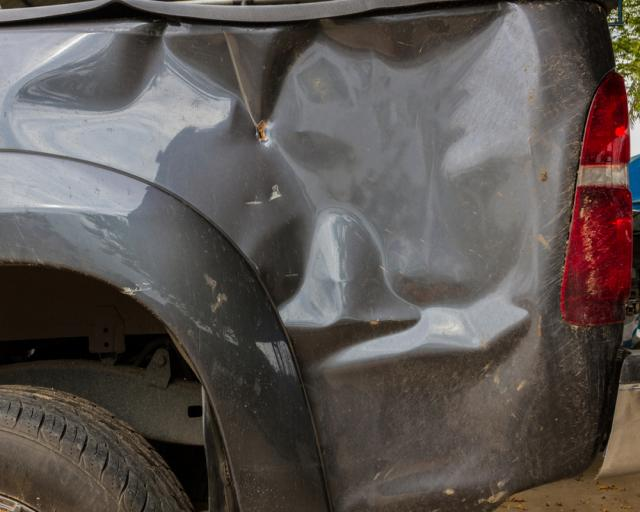dent: (12, 3, 548, 486)
